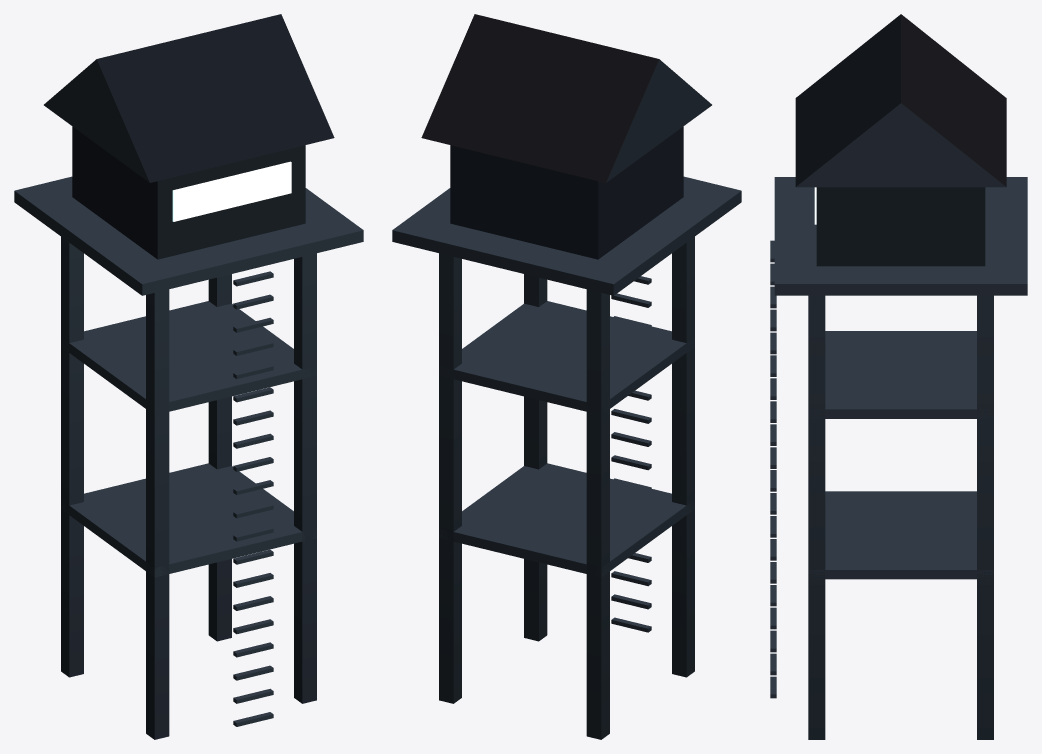
The model's file is shaddai_dist_darkforest_b2_v01.glb.
The picture shows the model from 3 angles, left to right: view 1: azimuth 30°, elevation 25°; view 2: azimuth 150°, elevation 25°; view 3: azimuth 270°, elevation 25°; orthographic projection.
Visible parts, largest first — view 1: shaddai_dist_darkforest_b2; view 2: shaddai_dist_darkforest_b2; view 3: shaddai_dist_darkforest_b2.
Boxes of the visible parts, box(x1,y1,x2,y2) form: shaddai_dist_darkforest_b2: box(14, 14, 363, 739); shaddai_dist_darkforest_b2: box(392, 14, 741, 739); shaddai_dist_darkforest_b2: box(770, 14, 1027, 739).
Bounding box in the file's own units: 6 × 16.8 × 6.1.
